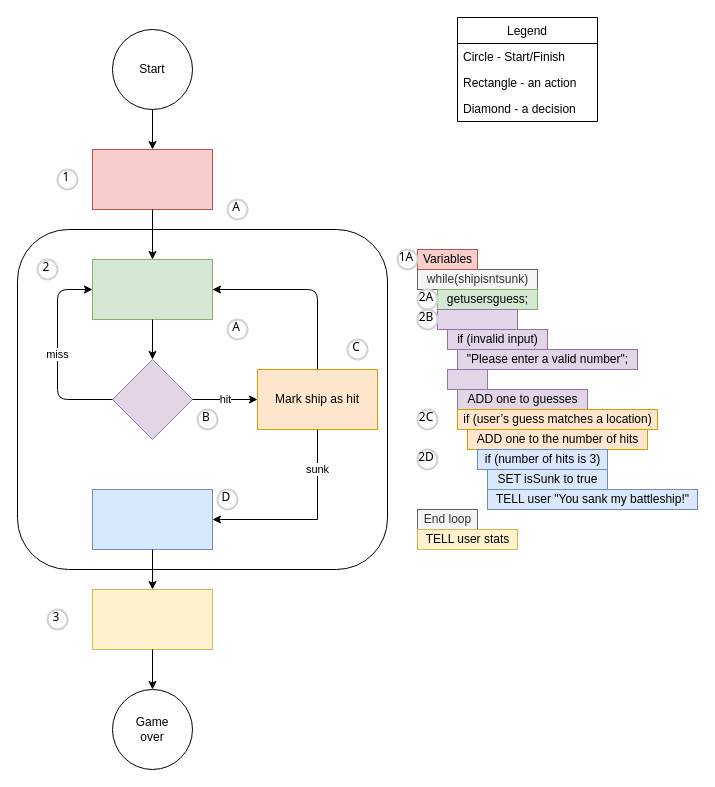
Image size: 715x787. Some labels were removed from this diagram. Here are the shapes that lost their labels. From the top down, the centre of each, then its label:
At pixel 152 179: "Game set-up".
At pixel 152 289: "Get user guess".
At pixel 477 319: "checkguess;".
At pixel 152 399: "Check guess".
At pixel 467 379: "else".
At pixel 152 519: "Mark ship as sunk".
At pixel 152 619: "Display user score rating".
